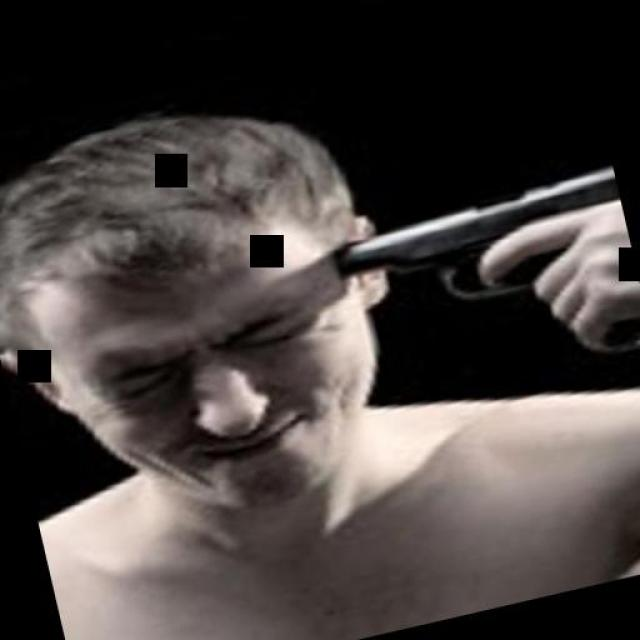gun: (311, 170, 640, 424)
